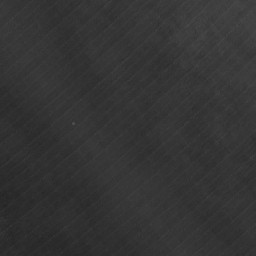Target: (71, 121, 76, 126)
